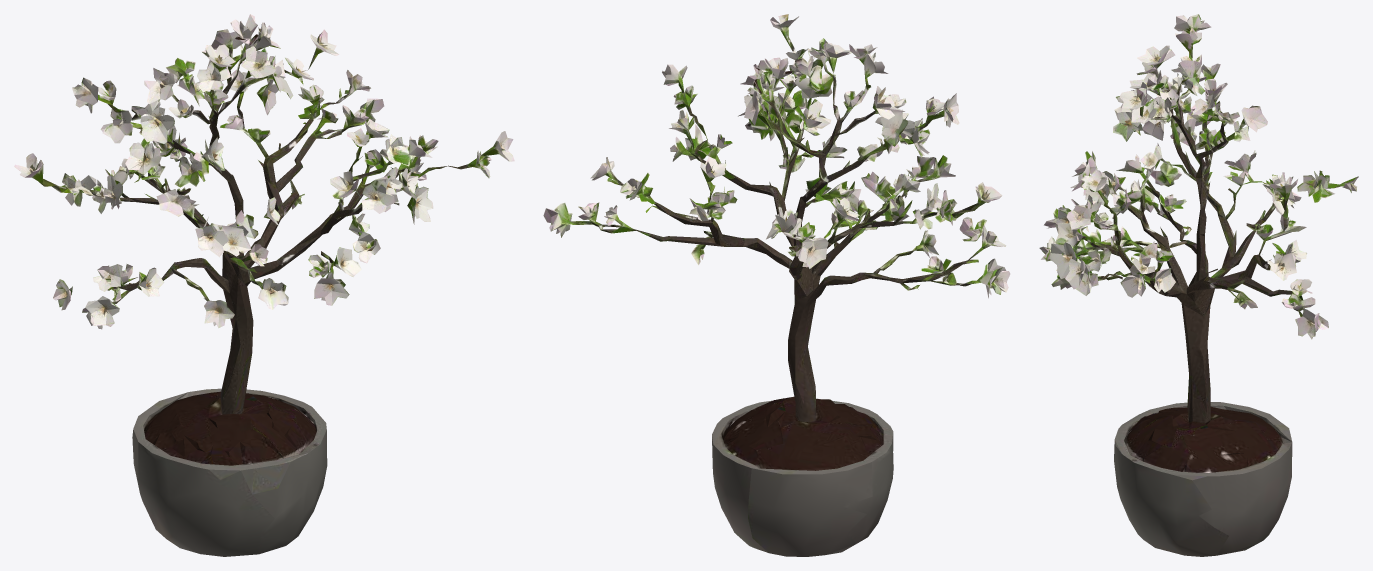
The model's file is blossom.glb.
The picture shows the model from 3 angles, left to right: view 1: azimuth 30°, elevation 25°; view 2: azimuth 150°, elevation 25°; view 3: azimuth 270°, elevation 25°; orthographic projection. The views are drawn at different scales.
Visible parts, largest first — view 1: plant; view 2: plant; view 3: plant.
Boxes of the visible parts, x1,y1,x2,y2 form: plant: [14, 14, 514, 556]; plant: [543, 14, 1010, 556]; plant: [1039, 14, 1358, 556].
Bounding box in the file's own units: 2.11 × 2.4 × 1.49.
Materials: 1 (1 with a texture image).
